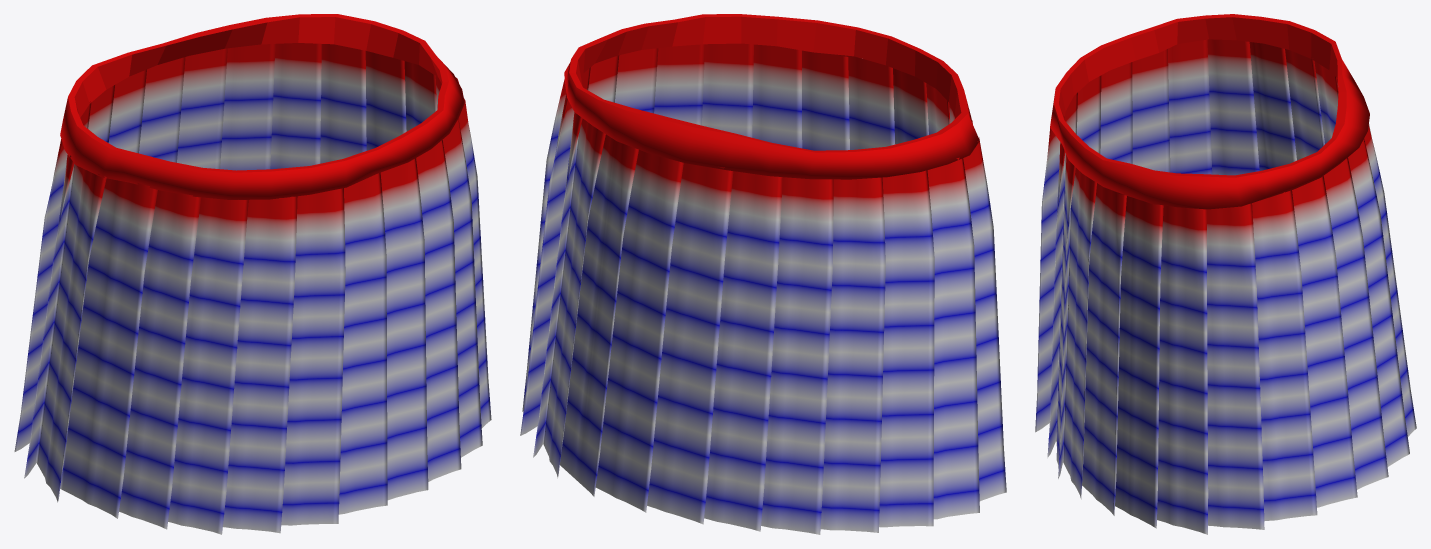
Rendered from skirt2.fbx.
3 views of the same model, side by side, from view 1: azimuth 30°, elevation 25°; view 2: azimuth 150°, elevation 25°; view 3: azimuth 270°, elevation 25° (orthographic). The views are drawn at different scales.
Parts seen in each view (by area): view 1: プリーツスカート; view 2: プリーツスカート; view 3: プリーツスカート.
Boxes of the visible parts, bbox=[...] form: プリーツスカート: bbox=[14, 14, 491, 534]; プリーツスカート: bbox=[520, 14, 1006, 534]; プリーツスカート: bbox=[1035, 14, 1416, 534].
Bounding box in the file's own units: 392 × 314 × 310.
